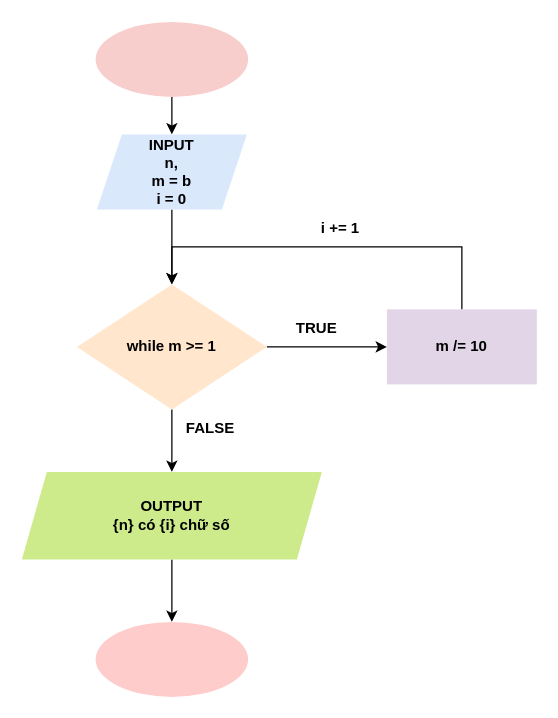
Some shapes in this 558 by 718 pixel diagram are drawn without their labels. The centre of each missing label's shape, as x and y in pixels:
"End" goes at point 171,658.
"Start" goes at point 171,58.
